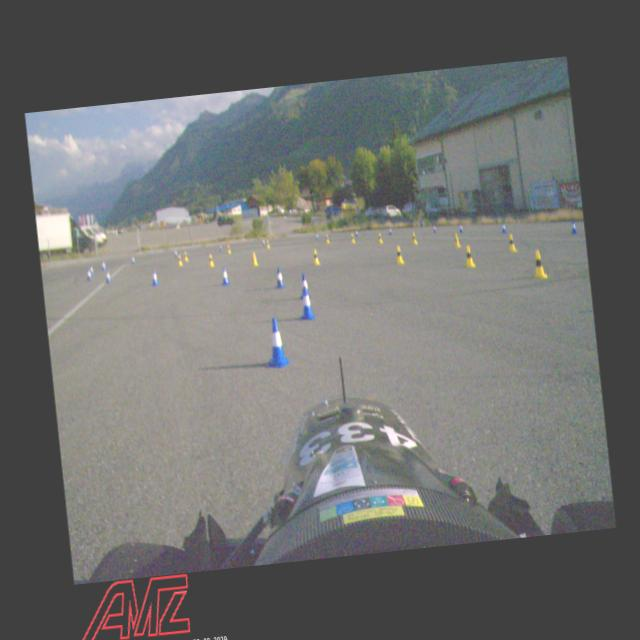blue_cone: (262, 316, 290, 369), (297, 285, 315, 321), (298, 273, 312, 299), (274, 266, 285, 288), (220, 265, 230, 285), (150, 268, 159, 285), (569, 219, 578, 235), (105, 270, 112, 284), (86, 268, 92, 281), (100, 260, 106, 271), (501, 222, 506, 234), (89, 264, 94, 274), (131, 254, 135, 263), (458, 224, 462, 233), (262, 238, 266, 247), (174, 248, 178, 256), (432, 224, 436, 232), (388, 228, 392, 235), (315, 232, 318, 240), (219, 244, 222, 251), (355, 230, 358, 236)
yellow_cone: (532, 250, 547, 280), (462, 244, 474, 268), (506, 232, 516, 252), (394, 245, 404, 265), (311, 248, 320, 266), (452, 232, 460, 248), (250, 252, 258, 266), (410, 231, 418, 245), (208, 254, 215, 268), (177, 254, 183, 266), (377, 232, 382, 244), (350, 232, 355, 244), (226, 244, 232, 254), (184, 251, 188, 261), (325, 234, 329, 243), (266, 240, 270, 248)
